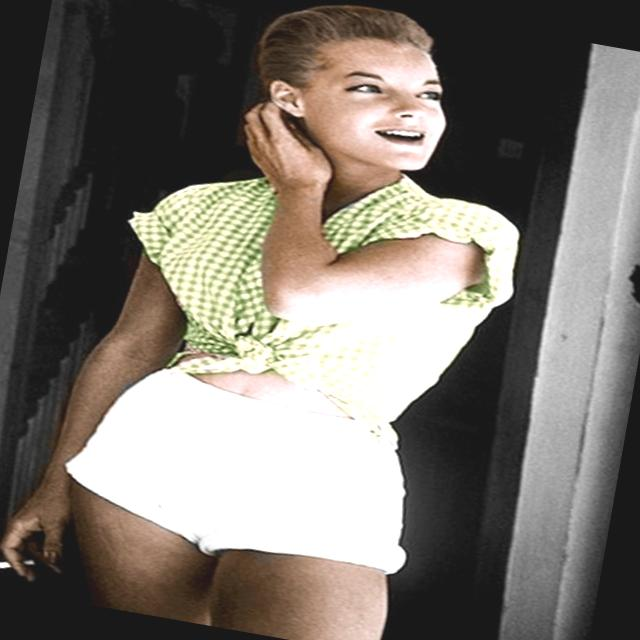cigarette: (0, 543, 49, 582)
